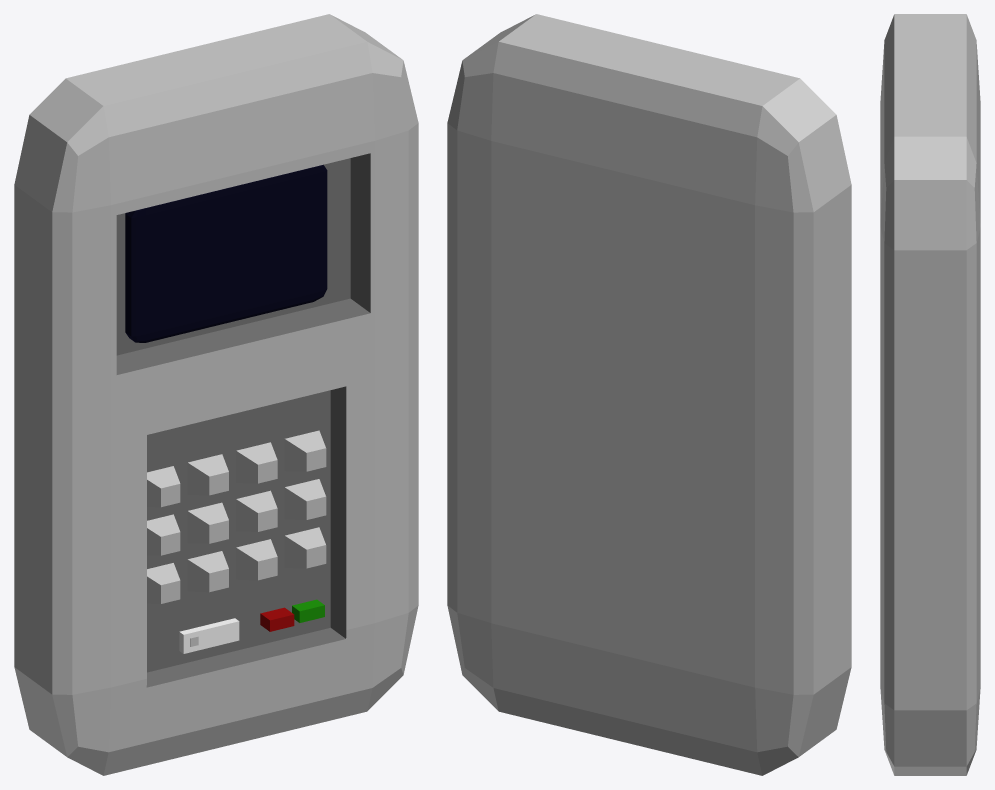
Rendered from Domofon.fbx.
3 renders of one model, left to right at view 1: azimuth 30°, elevation 25°; view 2: azimuth 150°, elevation 25°; view 3: azimuth 270°, elevation 25°, orthographic. The views are drawn at different scales.
Visible parts, largest first — view 1: Domofon, Ekran, Przyciski, Mikro; view 2: Domofon; view 3: Domofon.
Boxes of the visible parts, <box> form: Domofon: <box>14,14,418,775</box>; Ekran: <box>125,164,327,342</box>; Przyciski: <box>147,430,326,603</box>; Mikro: <box>179,618,239,653</box>; Domofon: <box>447,14,851,775</box>; Domofon: <box>880,14,980,775</box>.
Size of the model in its own units: 23.36 by 40.81 by 5.81.
